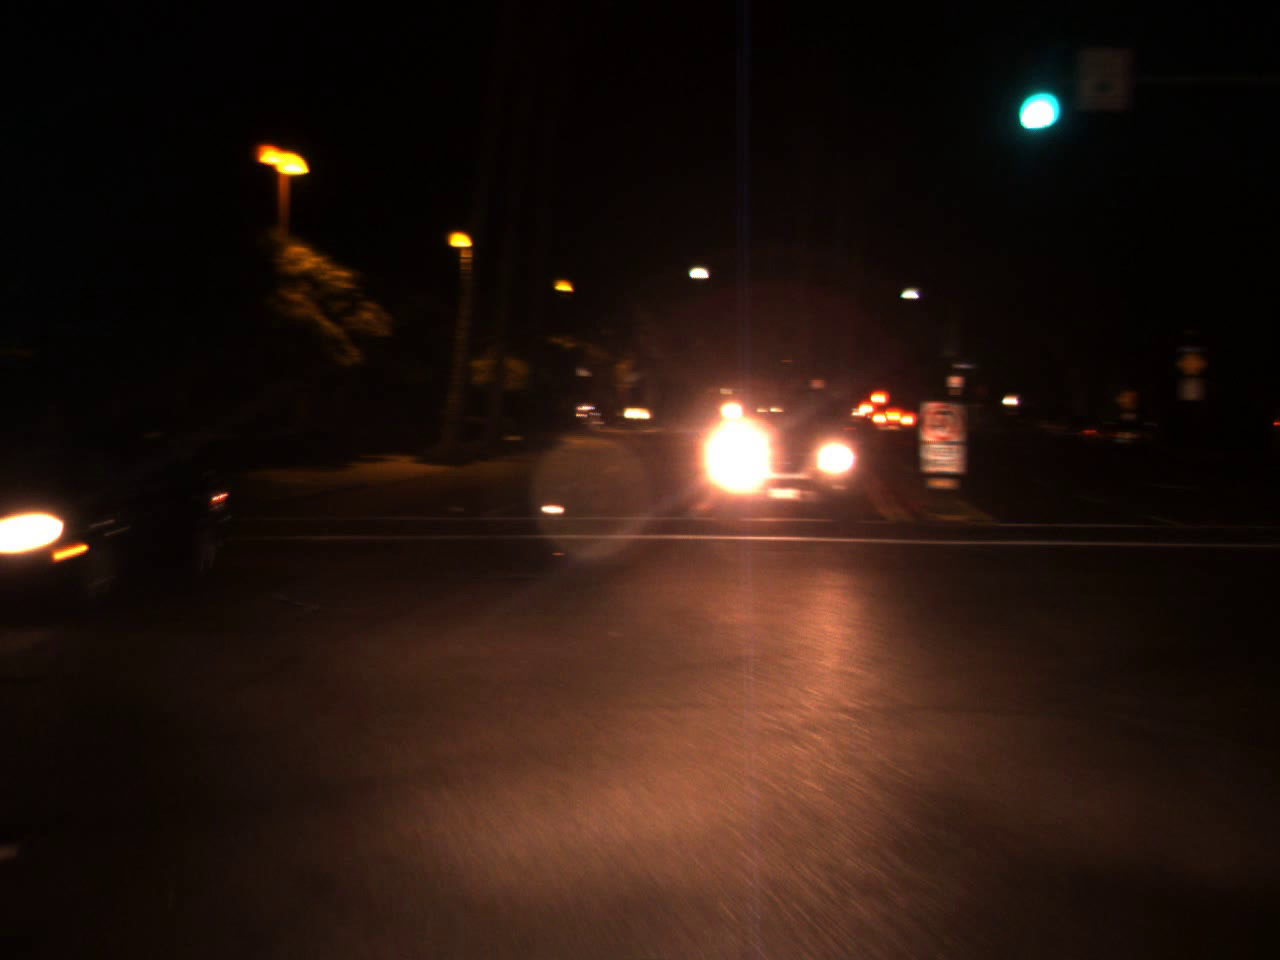go: (1007, 63, 1059, 141)
